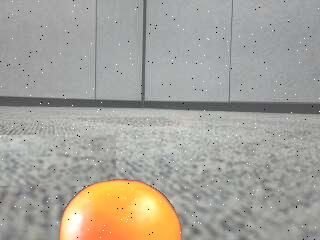Orange: (59, 179, 182, 240)
